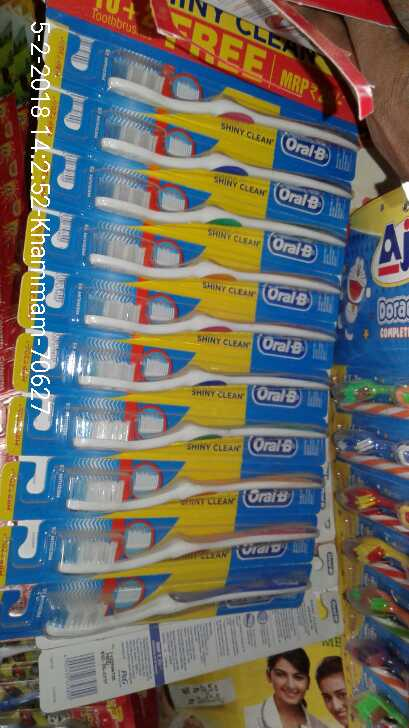oralb: (108, 49, 364, 153), (102, 102, 354, 199), (94, 162, 350, 248), (88, 229, 347, 299), (42, 578, 316, 638), (81, 287, 339, 344), (52, 531, 323, 577), (80, 348, 335, 392), (66, 470, 325, 507), (73, 410, 333, 445)
